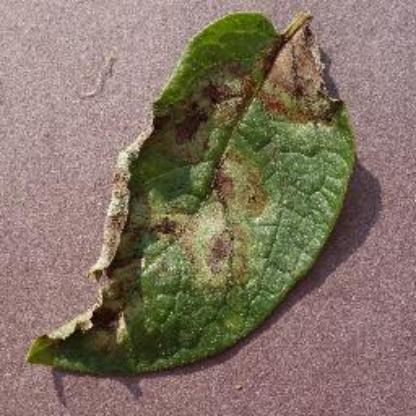Late-Blight: (45, 0, 369, 406)
